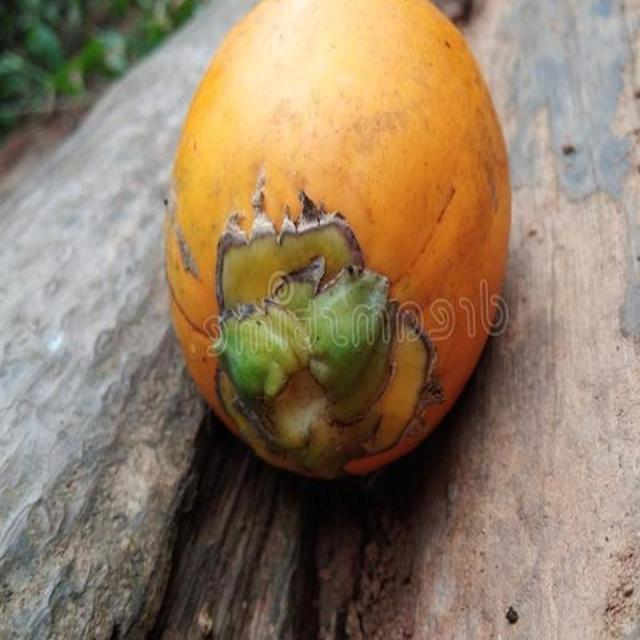good: (163, 0, 512, 484)
